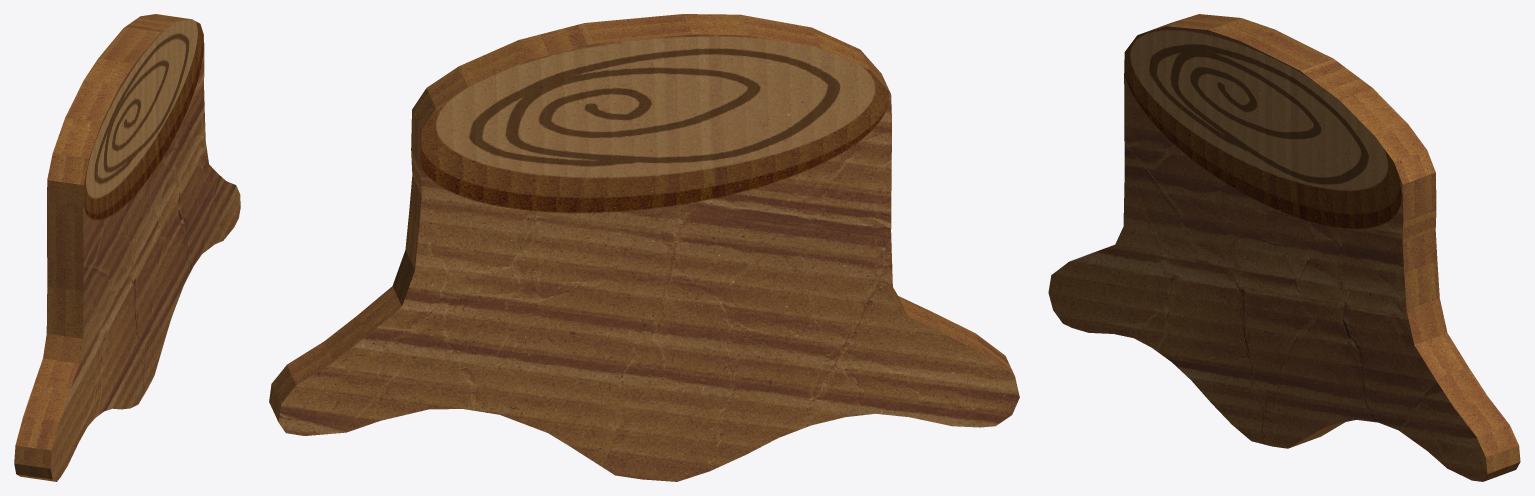
Rendered from penek.fbx.
The picture shows the model from 3 angles, left to right: view 1: azimuth 30°, elevation 25°; view 2: azimuth 150°, elevation 25°; view 3: azimuth 270°, elevation 25°; orthographic projection. The views are drawn at different scales.
Visible parts, largest first — view 1: penek.003; view 2: penek.003; view 3: penek.003.
Part boxes in pixels (x1,y1,x2,y2): penek.003: [14, 14, 240, 481]; penek.003: [269, 14, 1019, 481]; penek.003: [1048, 14, 1520, 481].
Bounding box in the file's own units: 2531 × 2068 × 2240.
Materials: 1 (1 with a texture image).
